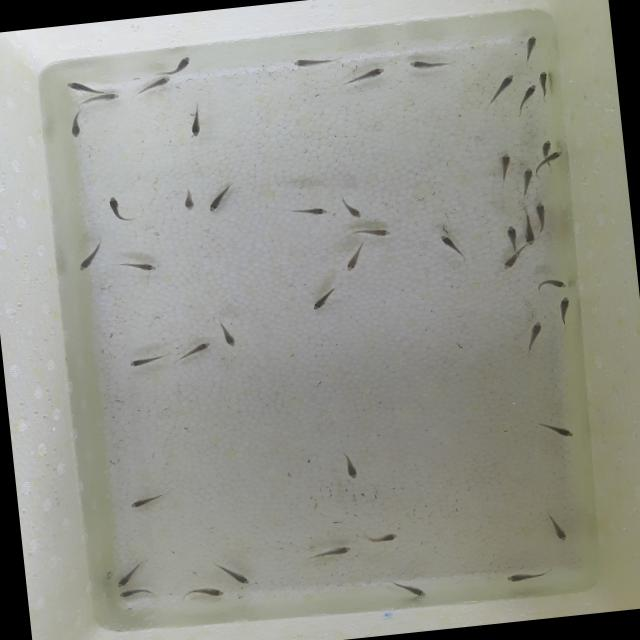fingerling: (515, 29, 541, 70), (520, 316, 545, 358), (503, 565, 555, 584), (304, 543, 354, 562), (128, 490, 174, 510), (544, 508, 569, 544), (542, 414, 574, 441), (345, 66, 390, 85), (177, 338, 214, 361), (175, 185, 200, 218), (203, 186, 234, 212), (352, 530, 401, 546), (114, 562, 143, 589), (184, 108, 208, 140), (219, 564, 253, 586), (125, 352, 168, 369), (436, 230, 464, 256), (335, 196, 365, 220), (340, 446, 360, 482), (290, 203, 332, 220), (182, 585, 228, 600), (529, 276, 566, 294), (287, 54, 334, 68), (492, 150, 514, 179), (342, 248, 366, 274), (74, 249, 100, 273), (492, 74, 520, 96), (105, 192, 124, 224), (116, 586, 154, 602), (397, 580, 429, 598), (408, 58, 448, 72), (358, 225, 393, 240), (67, 115, 86, 142), (218, 324, 237, 351), (556, 295, 572, 327), (499, 250, 524, 270), (521, 212, 535, 245), (535, 69, 554, 93), (127, 260, 159, 274), (170, 54, 191, 75), (310, 293, 334, 311), (519, 167, 536, 192), (66, 79, 92, 95), (538, 150, 566, 164), (504, 222, 518, 250), (146, 76, 170, 92), (532, 198, 547, 223), (86, 93, 120, 104), (536, 136, 556, 154), (520, 85, 536, 106)
